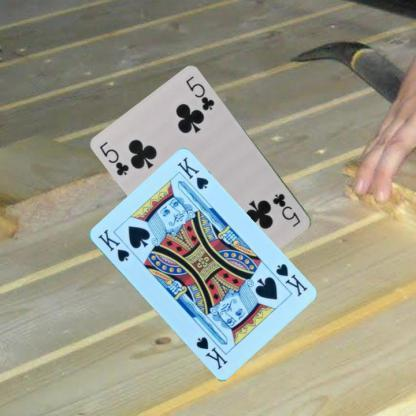5c: (98, 139, 131, 177), (270, 191, 302, 228)
Ks: (272, 260, 308, 298), (94, 226, 130, 263)
